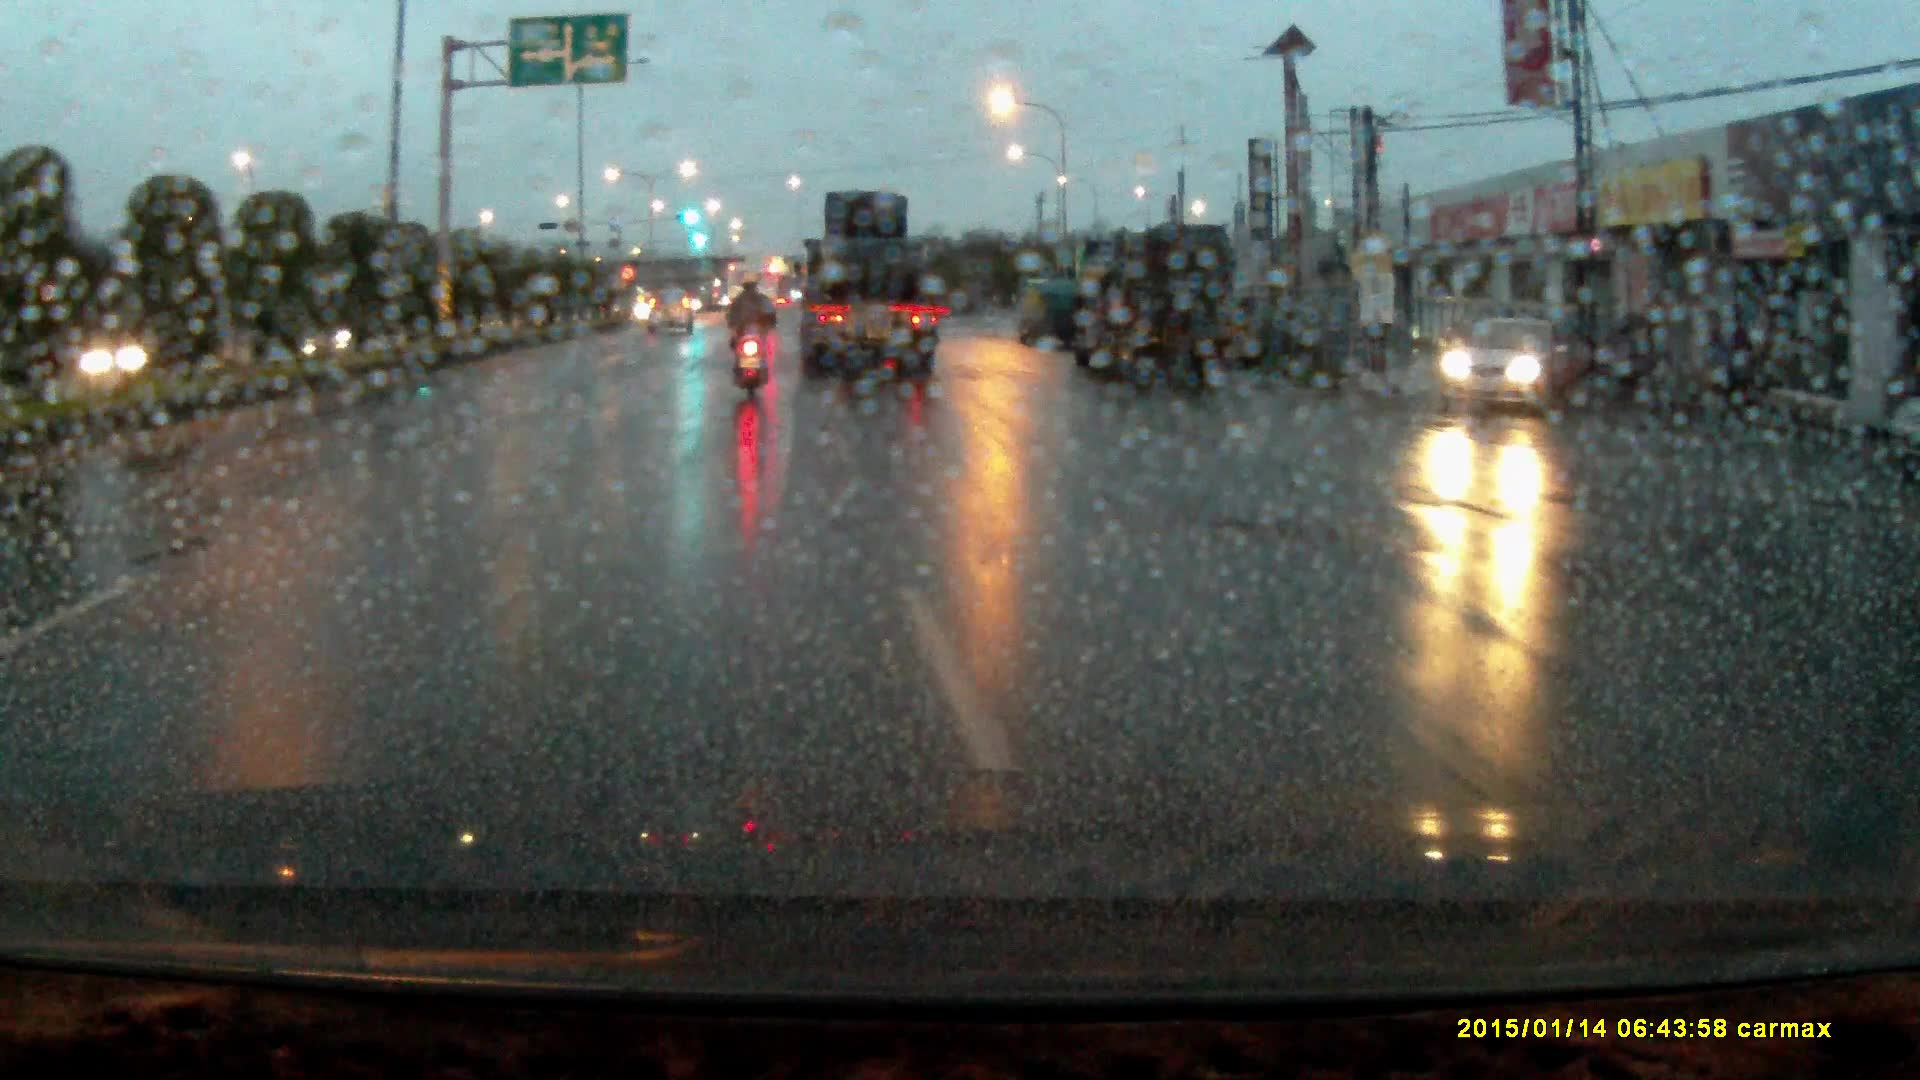rider: (723, 270, 782, 394)
vehicle: (1066, 218, 1232, 390), (803, 191, 940, 377), (1446, 314, 1589, 417), (1014, 277, 1082, 349), (727, 262, 778, 319), (647, 290, 696, 335)
